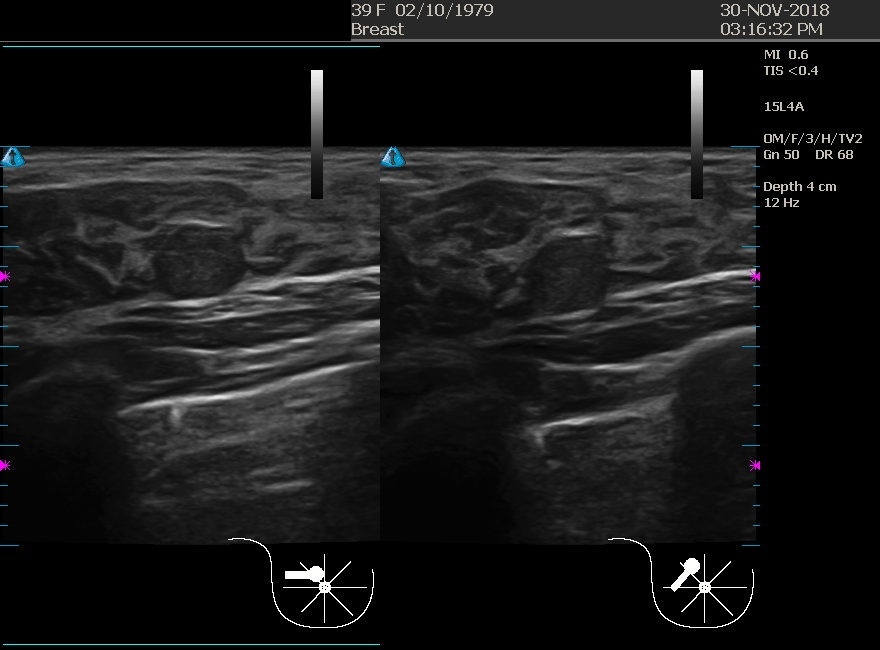BIRADS_4: (88, 177, 288, 377), (465, 185, 665, 385)
